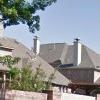Chimney: (69, 33, 87, 71)
